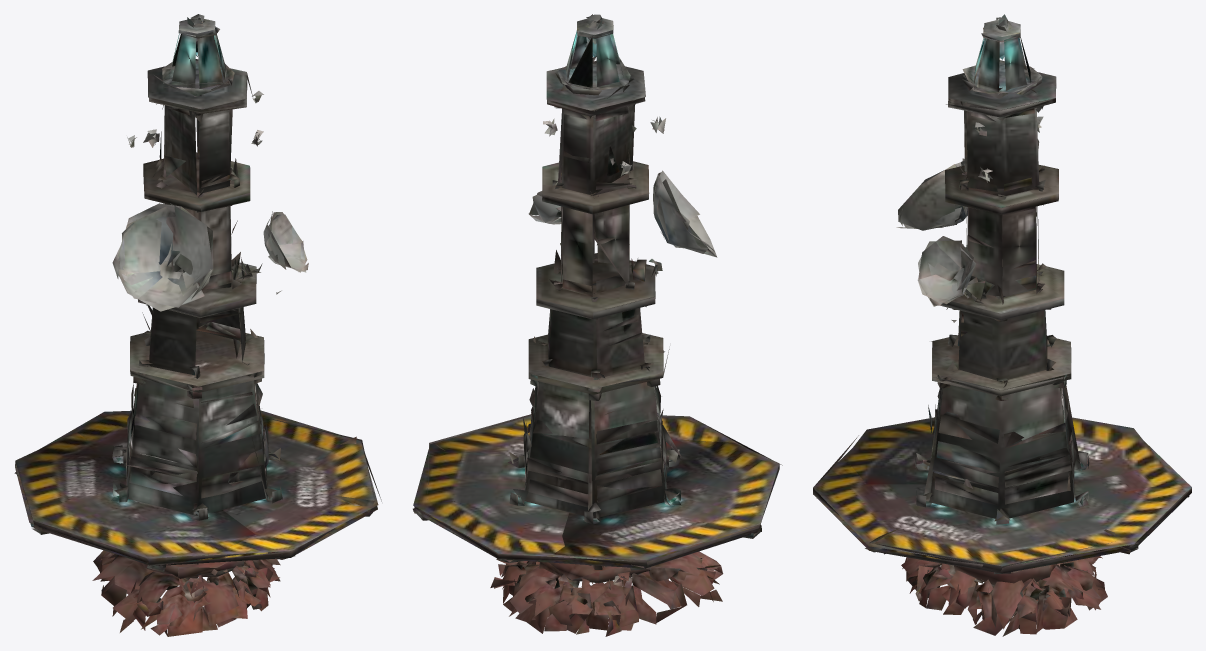
The model's file is beacon_tower.glb.
3 views of the same model, side by side, from view 1: azimuth 30°, elevation 25°; view 2: azimuth 150°, elevation 25°; view 3: azimuth 270°, elevation 25° (orthographic).
Parts seen in each view (by area): view 1: Mesh_0; view 2: Mesh_0; view 3: Mesh_0.
Part boxes in pixels (x1,y1,x2,y2): Mesh_0: [14, 14, 381, 636]; Mesh_0: [413, 14, 782, 636]; Mesh_0: [813, 14, 1191, 636].
Size of the model in its own units: 0.5985 by 1 by 0.5918.
1 material, 1 textured.
